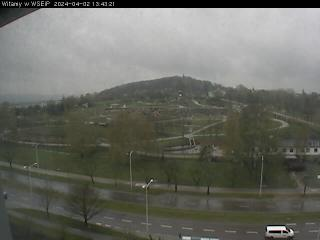car: (264, 223, 295, 240)
